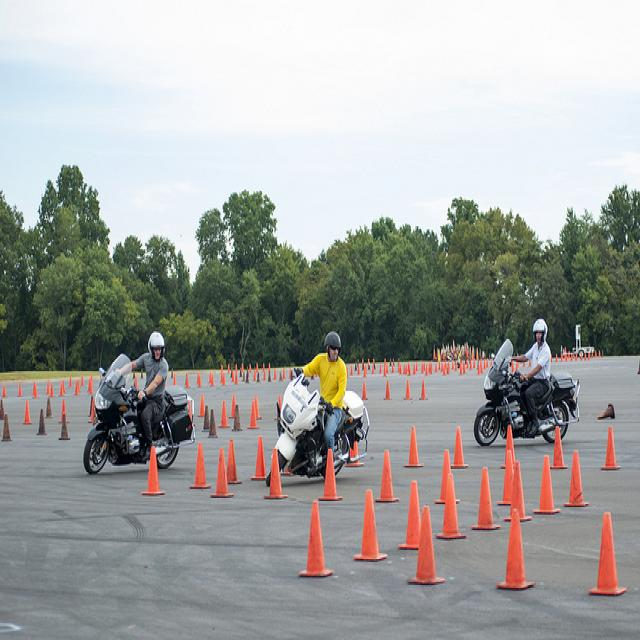motor: (87, 351, 198, 495), (262, 375, 372, 485), (475, 339, 581, 446)
